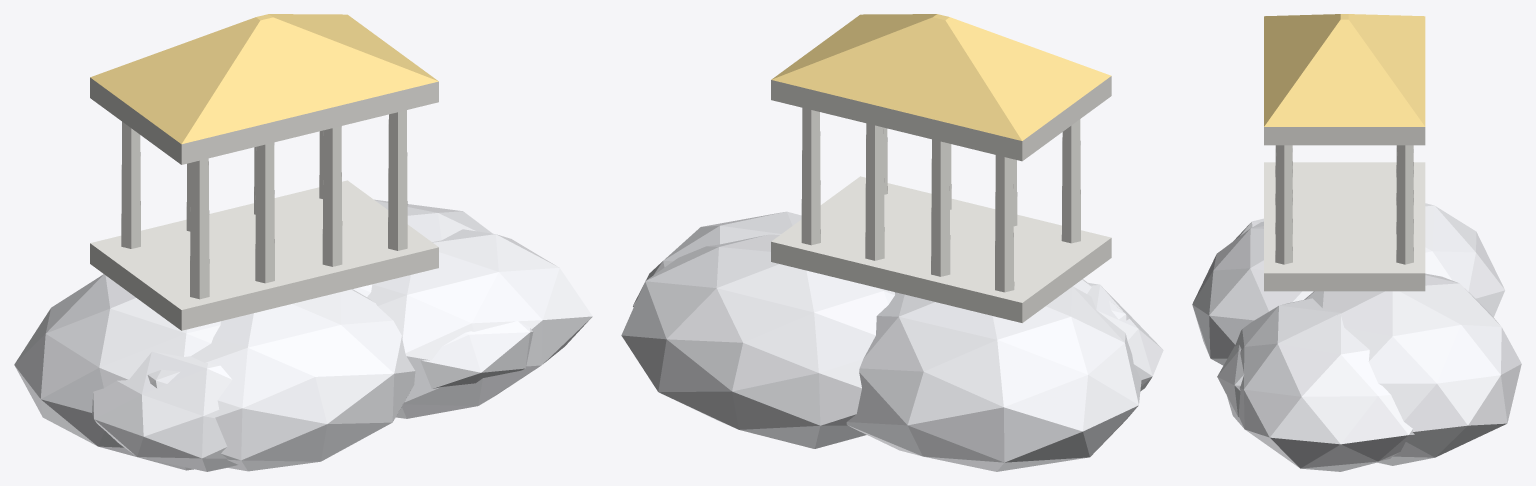
The model's file is Island2.obj.
3 renders of one model, left to right at view 1: azimuth 30°, elevation 25°; view 2: azimuth 150°, elevation 25°; view 3: azimuth 270°, elevation 25°, orthographic. The views are drawn at different scales.
Visible parts, largest first — view 1: Island2; view 2: Island2; view 3: Island2.
Part boxes in pixels (left/top/right/bottom): Island2: left=14, top=14, right=592, bottom=471; Island2: left=621, top=14, right=1163, bottom=471; Island2: left=1192, top=14, right=1521, bottom=471.
Bounding box in the file's own units: 2.6 × 2.06 × 1.63.
1 material, 1 textured.
